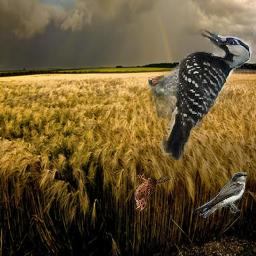Sparrow: (135, 170, 172, 212)
Swallow: (193, 172, 248, 218)
Woodpecker: (148, 30, 252, 161)
